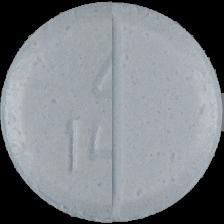0185-0149: (0, 0, 224, 224)
